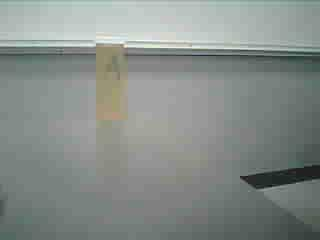Bottle A: (93, 31, 132, 125)
